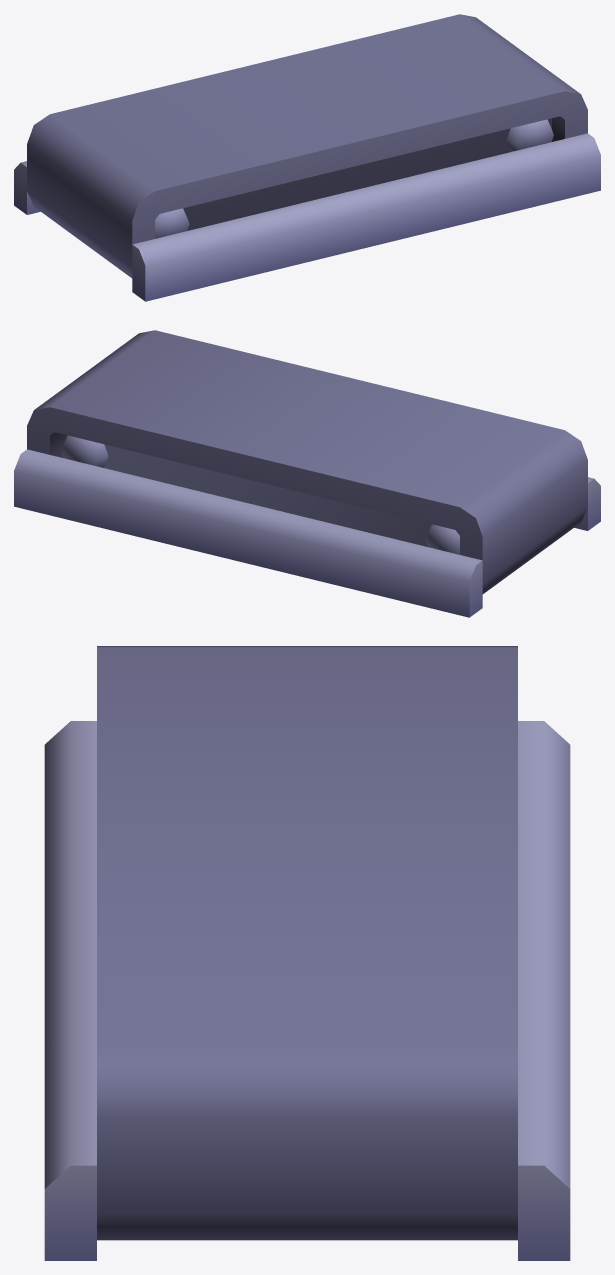
File: kenney-factory-conveyor-long-sides.glb
3 views of the same model, one above another, from view 1: azimuth 30°, elevation 25°; view 2: azimuth 150°, elevation 25°; view 3: azimuth 270°, elevation 25° (orthographic). The views are drawn at different scales.
Parts seen in each view (by area): view 1: conveyor-long-sides; view 2: conveyor-long-sides; view 3: conveyor-long-sides.
Part boxes in pixels (x1,y1,x2,y2): conveyor-long-sides: (14, 14, 600, 301); conveyor-long-sides: (14, 330, 600, 617); conveyor-long-sides: (44, 646, 570, 1260).
Bounding box in the file's own units: 3 × 0.6 × 1.5.
Materials: 1 (1 with a texture image).
